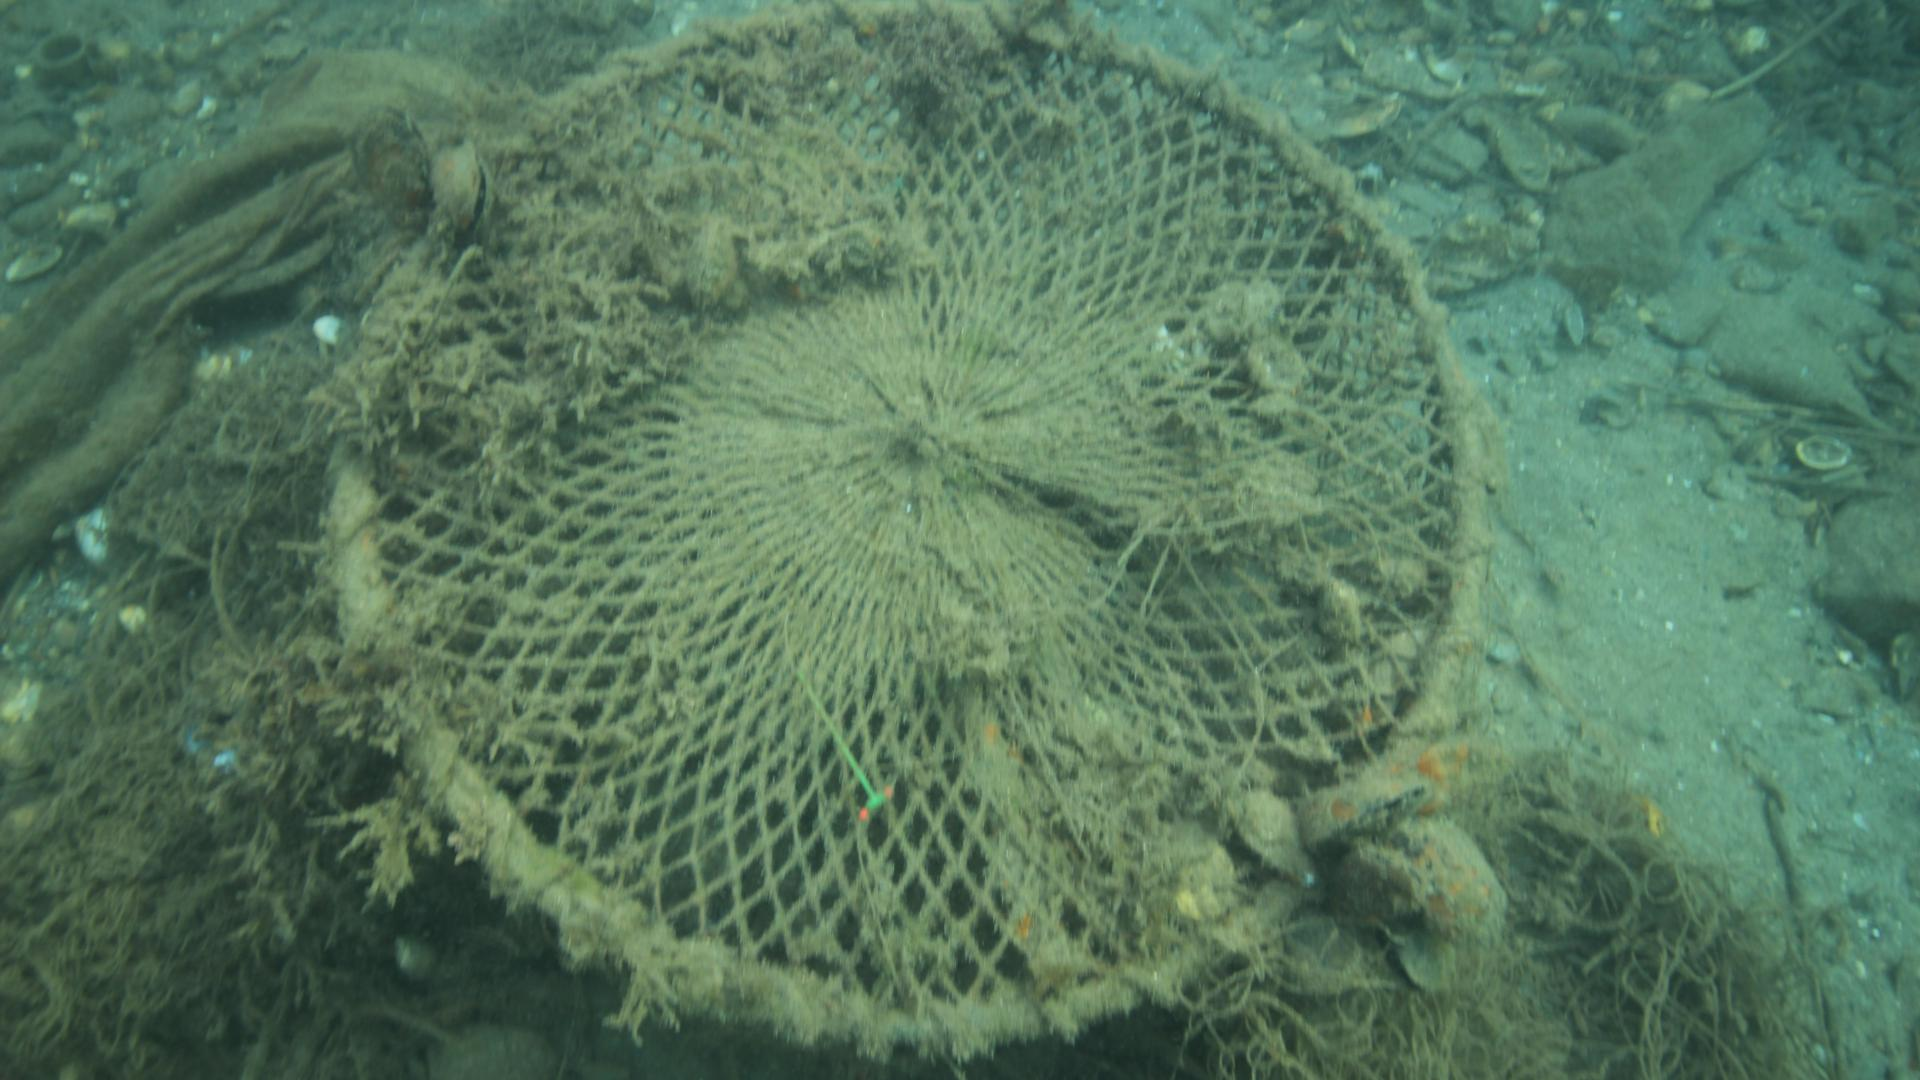circular fish trap: (314, 5, 1502, 1059)
